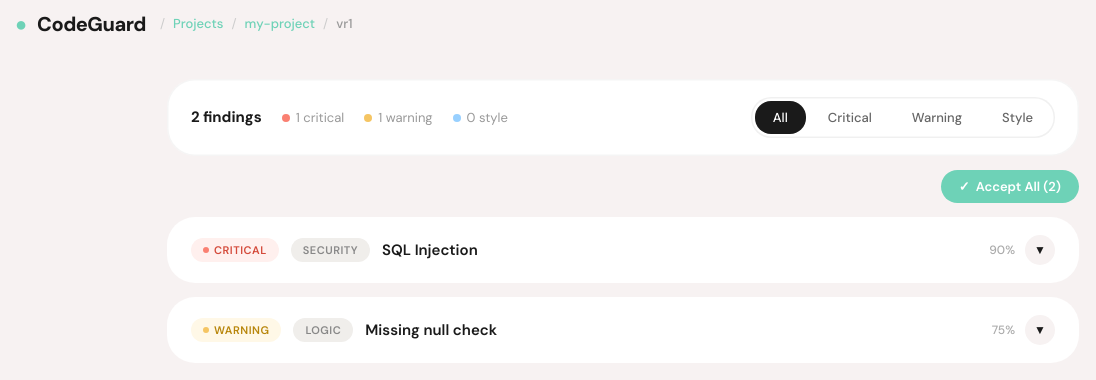
Test: ReviewDetail › shows no findings message when filter matches nothing
Expected: the number of elements with test id "finding-card" is 2, [167,217,1079,283]; [167,297,1079,363]
Click the button with test id "filter-style" at (1018, 118), box [984,101,1051,134]
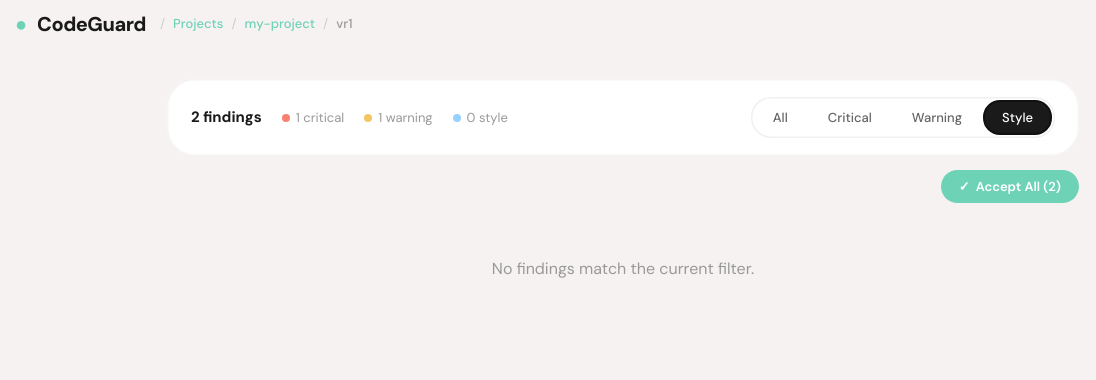
Expected: the text "No findings match the current filter." is shown, [492,258,754,279]
